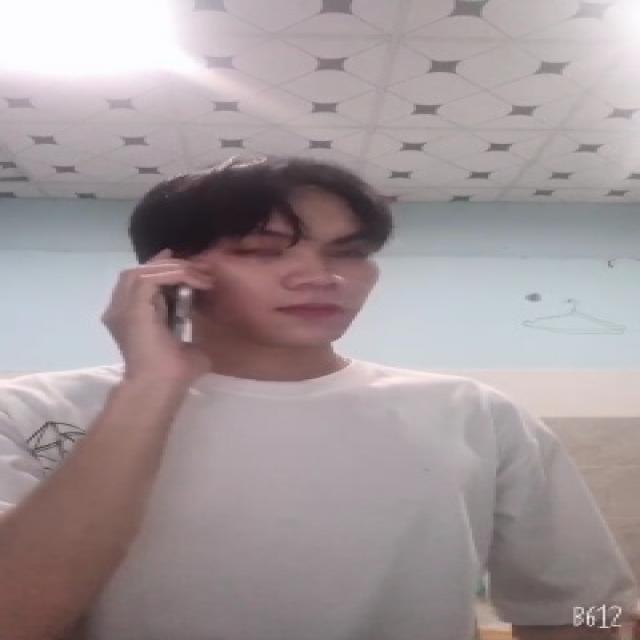Phone: (149, 274, 209, 354)
